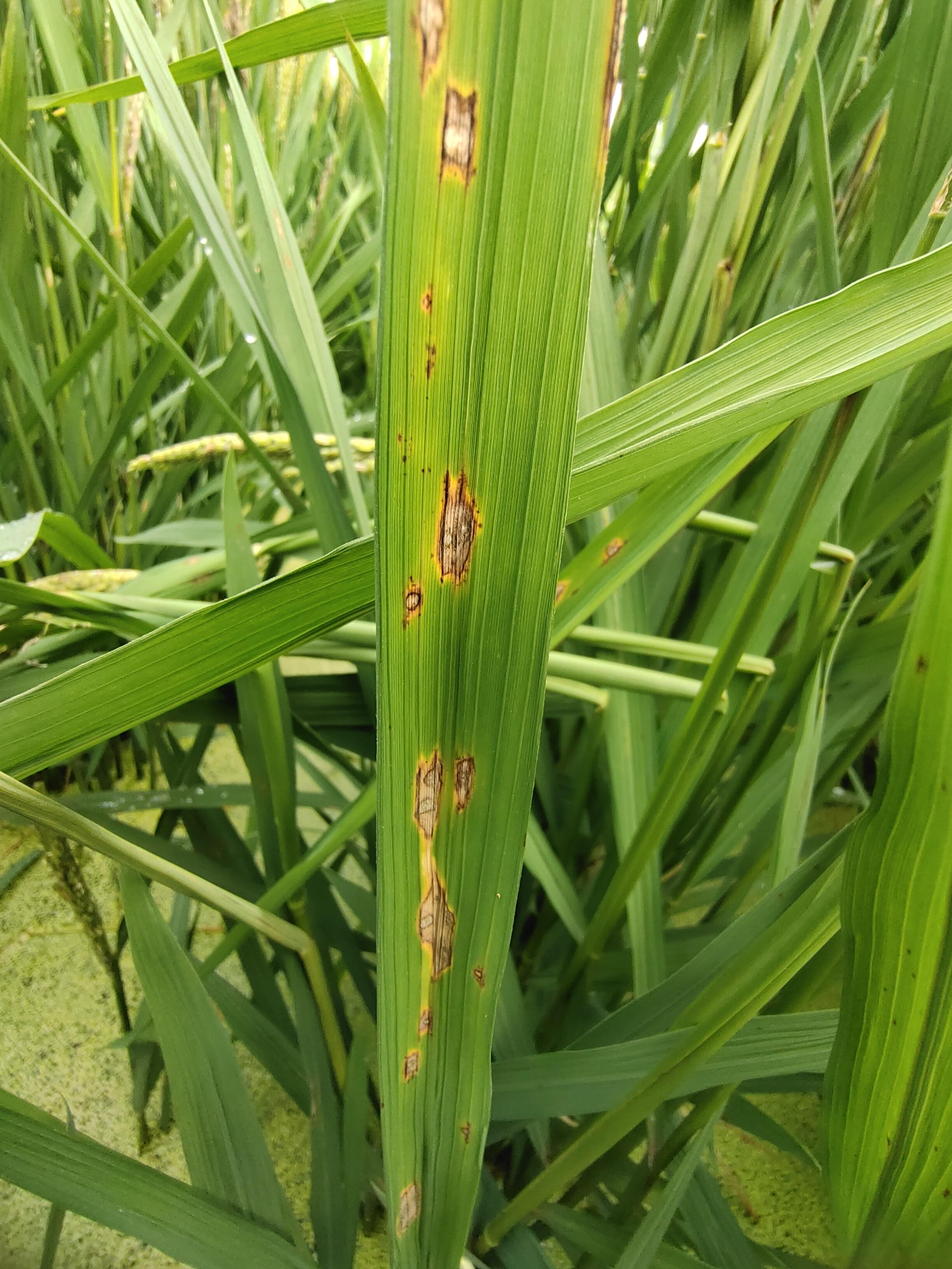LEAF: (375, 0, 627, 1269)
LEAF BLAST: (411, 743, 456, 982), (434, 472, 484, 590), (436, 76, 481, 195), (409, 0, 452, 103), (452, 755, 476, 814), (397, 1182, 420, 1236), (402, 576, 422, 629), (402, 1050, 419, 1082), (419, 1007, 432, 1036), (473, 966, 485, 989), (460, 1121, 471, 1144)
